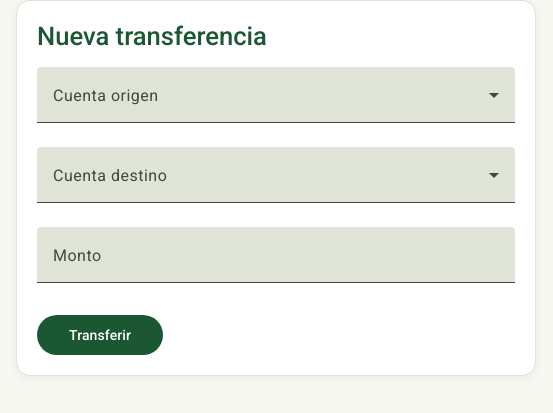
it: TransferenciaFormComponent › debe_mostrar_monto_invalido_y_no_llamar_al_backend_cuando_el_monto_es_-3
Select "1000000001 - Titular 1" in the dropdown named "cuentaOrigen" at (276, 103), box [53,91,499,115]
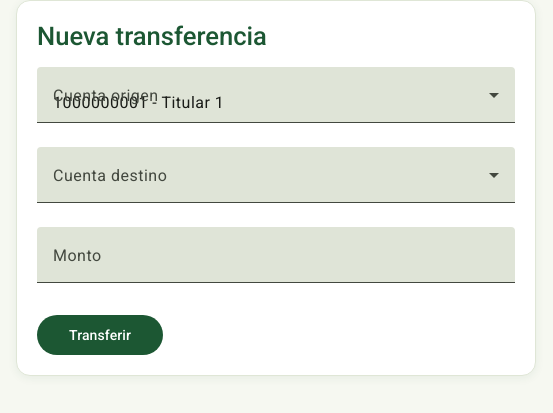
Select "1000000002 - Titular 2" in the dropdown named "cuentaDestino" at (276, 183), box [53,171,499,195]
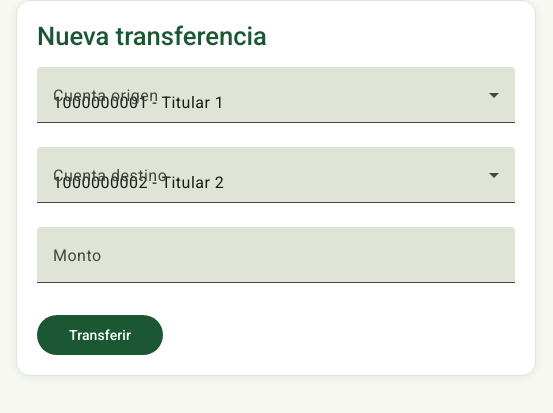
Type "-3" into the field named "monto" at (276, 263), box [53,251,499,275]
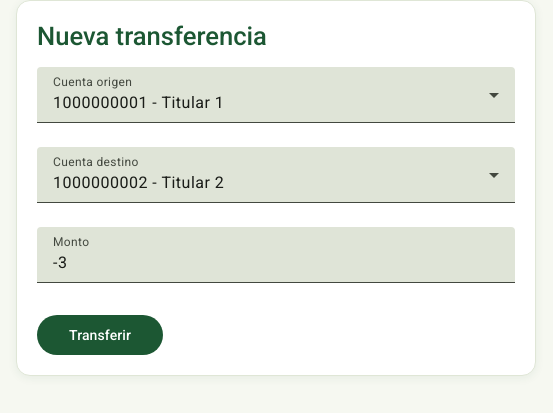
Click the submit button at (100, 335), box [37,315,163,355]
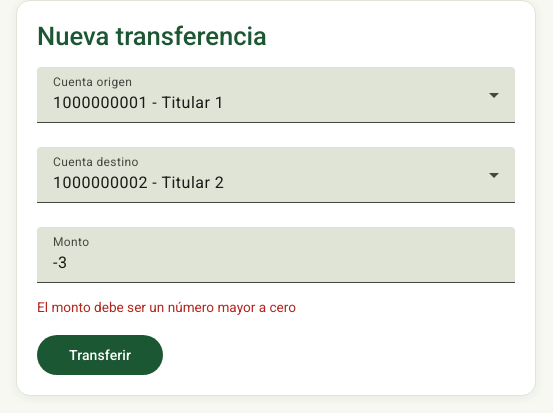
Result: the text "El monto debe ser un número mayor a cero" is shown at [37,299,296,315]
